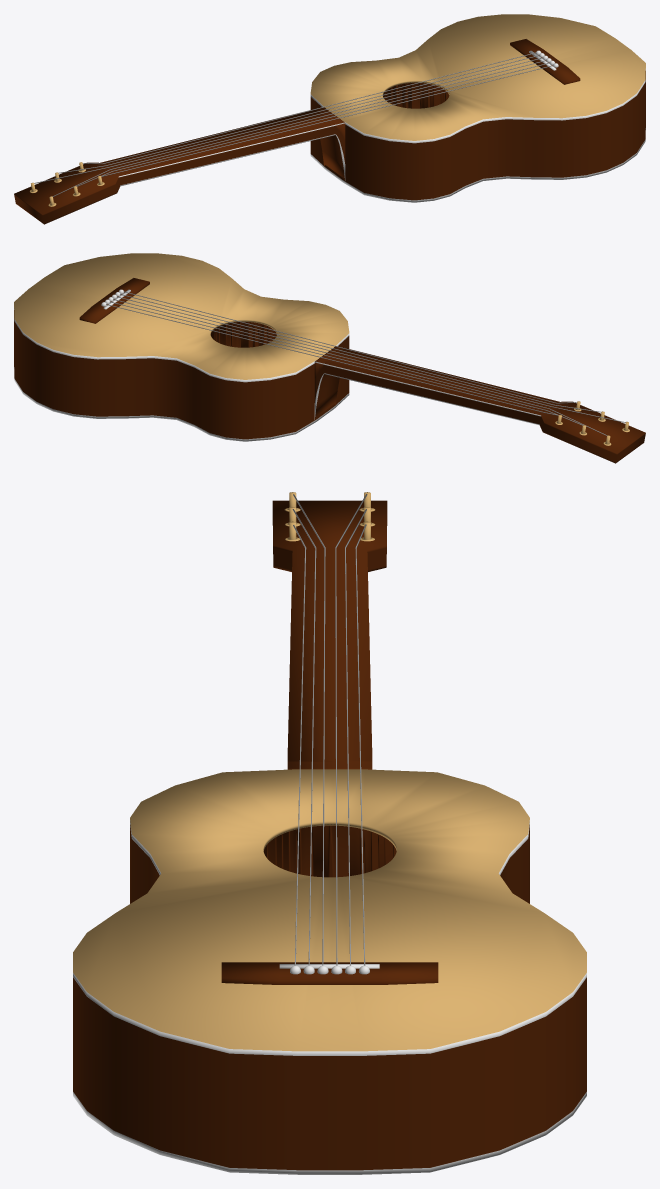
The model's file is guitare (1).fbx.
3 renders of one model, top to bottom at view 1: azimuth 30°, elevation 25°; view 2: azimuth 150°, elevation 25°; view 3: azimuth 270°, elevation 25°, orthographic. The views are drawn at different scales.
Visible parts, largest first — view 1: Plane, c4, c3, c5, c2, c1, c6; view 2: Plane, c3, c4, c2, c5, c1, c6; view 3: Plane.
Part boxes in pixels (<box>): Plane: <box>14,14,645,224</box>; c4: <box>34,57,543,183</box>; c3: <box>52,60,546,196</box>; c5: <box>58,55,539,173</box>; c2: <box>77,62,549,186</box>; c1: <box>101,65,553,176</box>; c6: <box>82,52,536,164</box>; Plane: <box>14,253,645,463</box>; c3: <box>117,296,625,422</box>; c4: <box>113,299,606,435</box>; c2: <box>120,294,601,412</box>; c5: <box>110,301,582,425</box>; c1: <box>123,291,577,403</box>; c6: <box>106,304,558,415</box>; Plane: <box>73,500,586,1174</box>.
Size of the model in its own units: 98.84 by 10.68 by 37.
